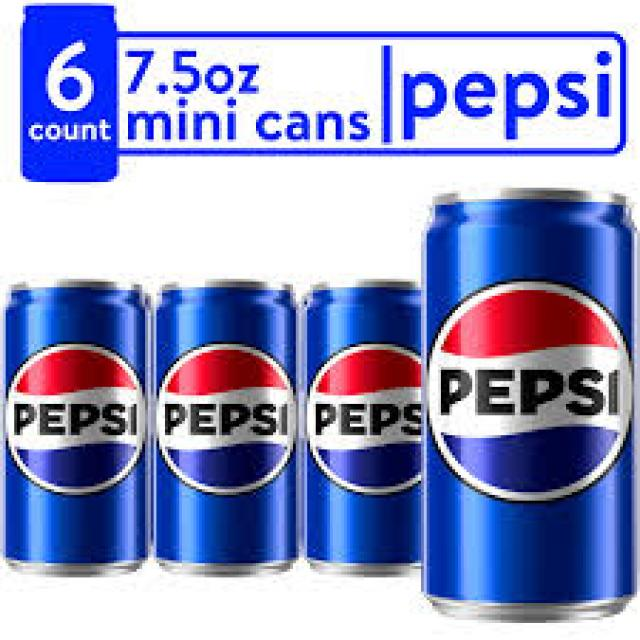Cans: (418, 182, 640, 620), (3, 273, 159, 580), (145, 279, 302, 580), (296, 270, 429, 580)
